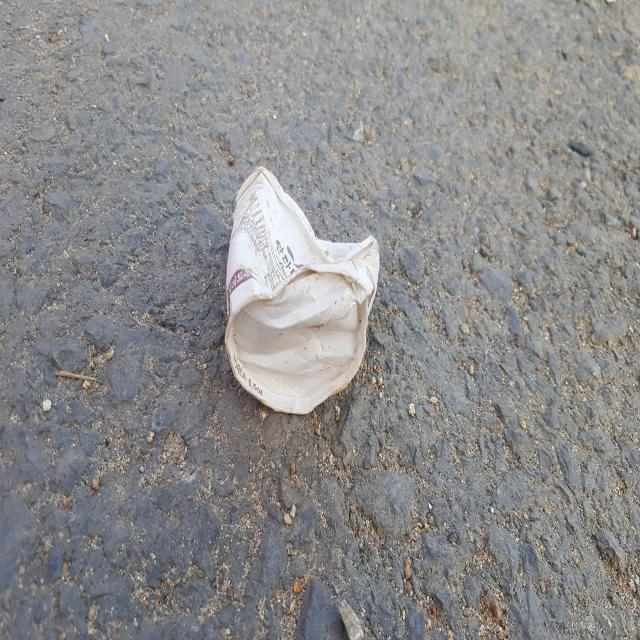paperpack: (225, 167, 380, 413)
